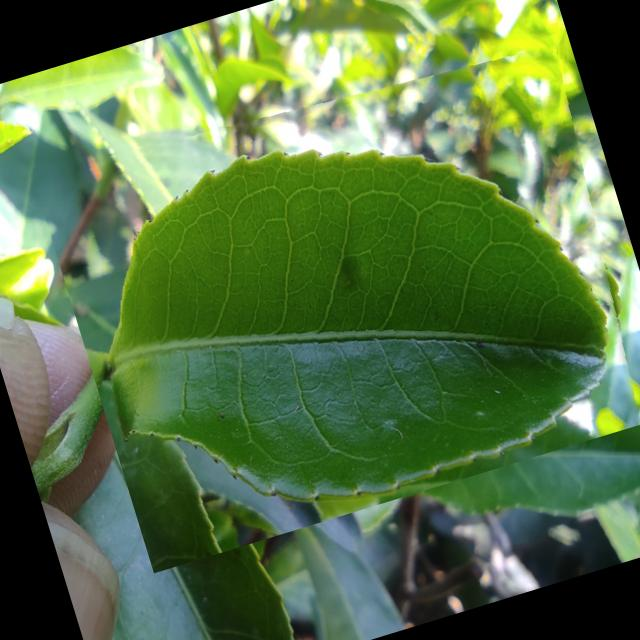Category C(4-7 days): (32, 17, 640, 572)
